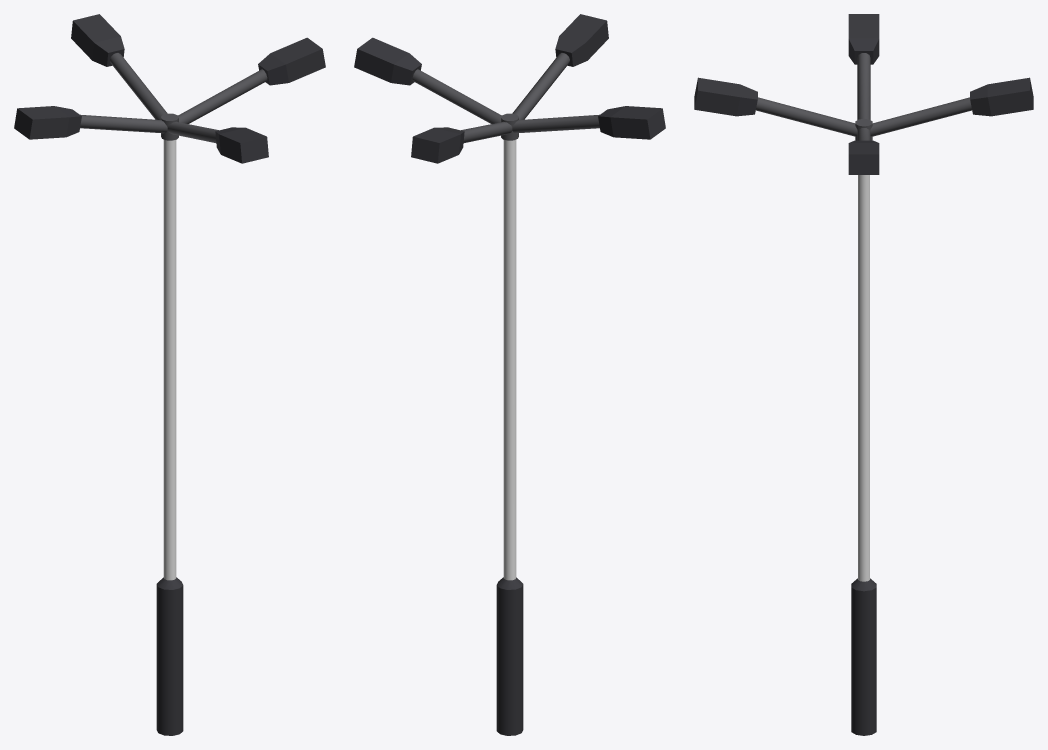
The model's file is StreetLamp1_a_LP_LOD0.FBX.
3 views of the same model, side by side, from view 1: azimuth 30°, elevation 25°; view 2: azimuth 150°, elevation 25°; view 3: azimuth 270°, elevation 25° (orthographic).
Parts seen in each view (by area): view 1: StreetLamp1_a_LP_LOD0; view 2: StreetLamp1_a_LP_LOD0; view 3: StreetLamp1_a_LP_LOD0.
Part boxes in pixels (x1,y1,x2,y2): StreetLamp1_a_LP_LOD0: (14, 14, 325, 735); StreetLamp1_a_LP_LOD0: (354, 14, 665, 735); StreetLamp1_a_LP_LOD0: (694, 14, 1033, 735).
Bounding box in the file's own units: 4.82 × 10.13 × 4.82.
